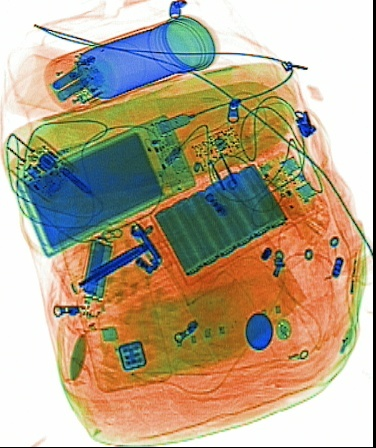powerbank: (148, 143, 327, 287)
